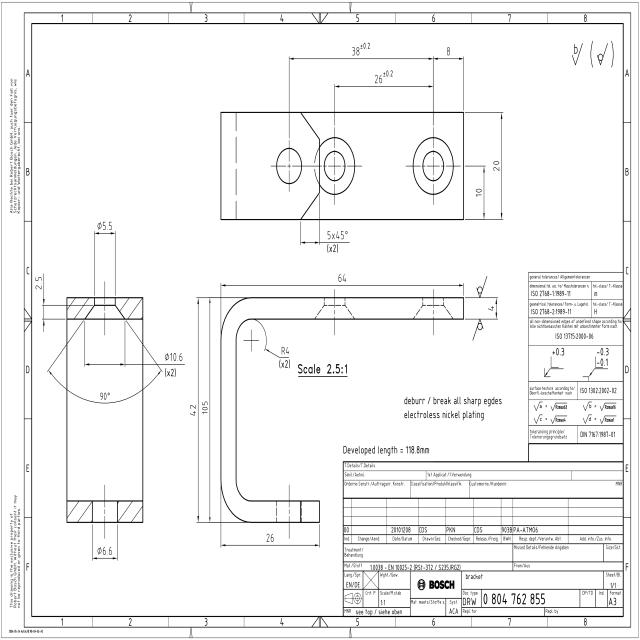dimension: (326, 229, 350, 254), (163, 351, 184, 378), (351, 40, 372, 58), (278, 346, 292, 370), (374, 69, 394, 84), (95, 544, 114, 557), (95, 220, 114, 231), (34, 274, 42, 291), (337, 272, 348, 284), (201, 400, 209, 416), (265, 532, 275, 544), (100, 391, 112, 401), (190, 403, 198, 417), (492, 159, 500, 172), (474, 186, 482, 198), (487, 304, 495, 313), (446, 45, 451, 56)
